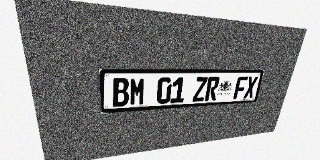0: (156, 77, 172, 104)
1: (170, 77, 186, 103)
B: (112, 78, 129, 107)
F: (233, 76, 248, 99)
M: (129, 78, 146, 106)
R: (205, 77, 220, 101)
X: (243, 76, 258, 98)
Z: (192, 77, 208, 102)
